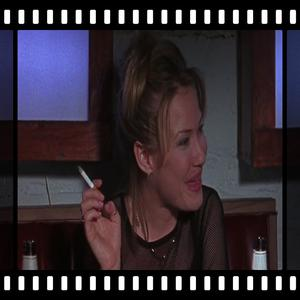cigarette: (76, 165, 97, 192)
